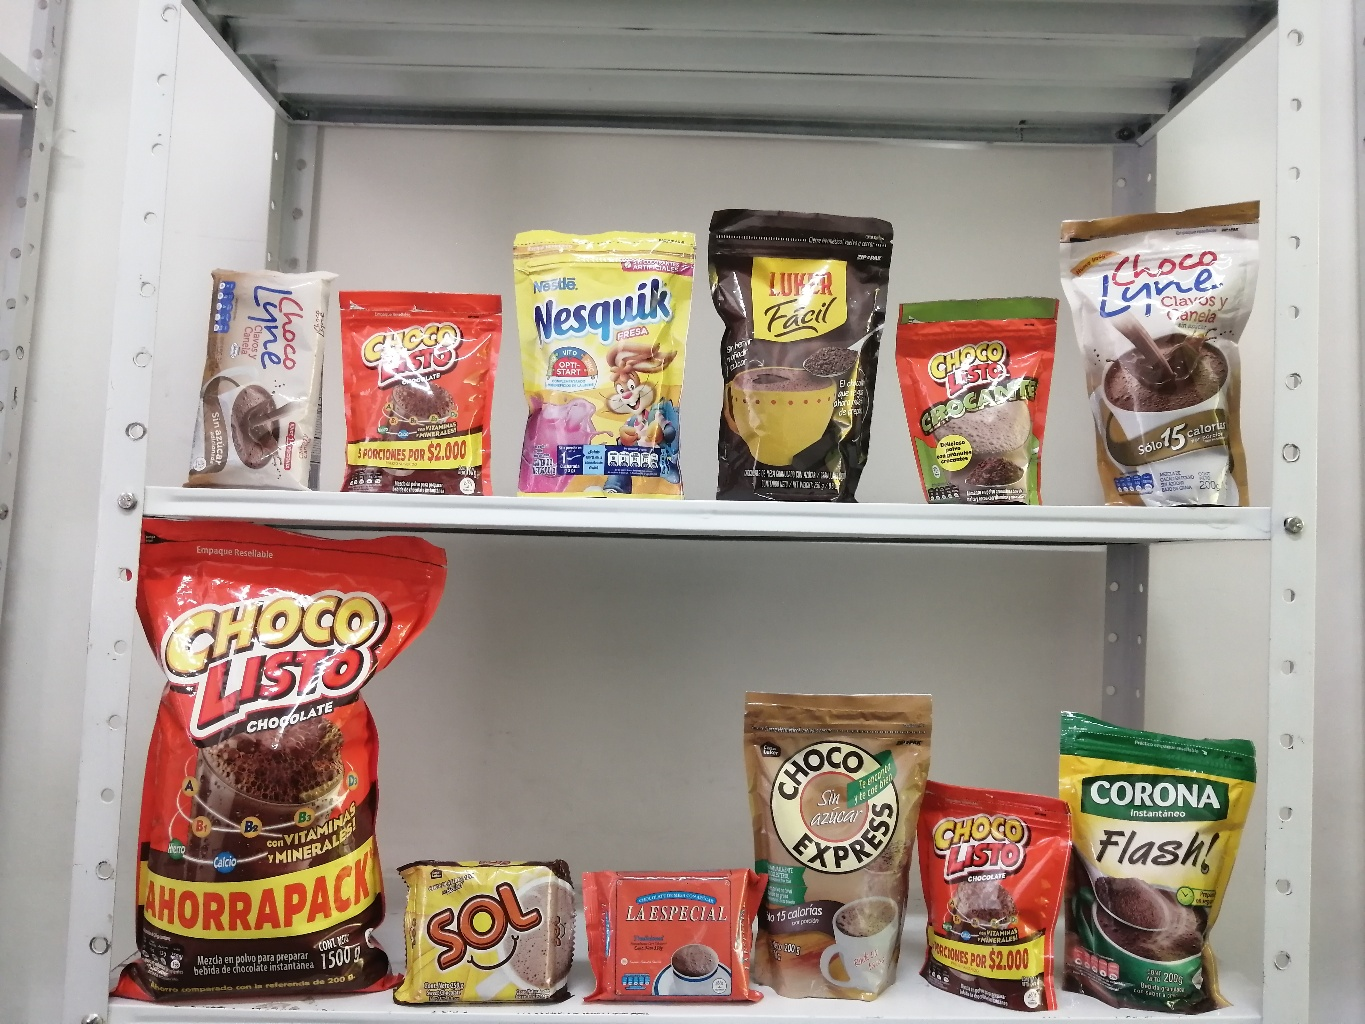COL0170102DYP10000: (886, 275, 1092, 526)
COL0170103DYP1,500: (83, 498, 451, 1014)
COL0170305DYP20000: (495, 207, 705, 507)
